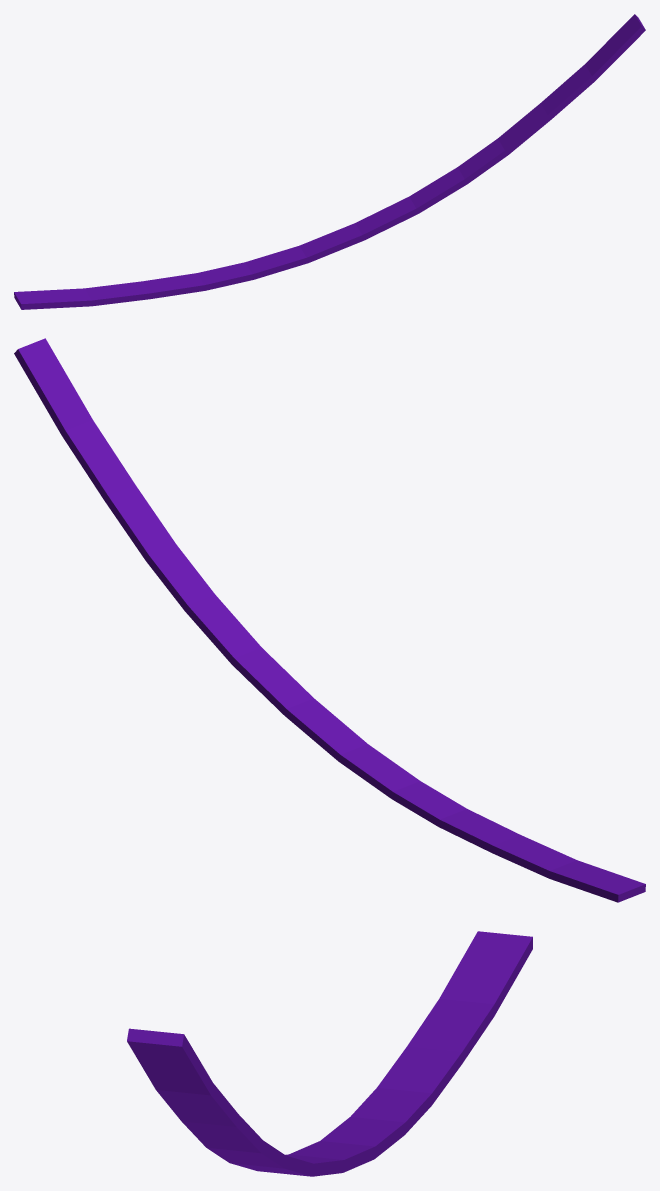
File: Tape_11.fbx
3 renders of one model, top to bottom at view 1: azimuth 30°, elevation 25°; view 2: azimuth 150°, elevation 25°; view 3: azimuth 270°, elevation 25°, orthographic. The views are drawn at different scales.
Visible parts, largest first — view 1: Tape_11; view 2: Tape_11; view 3: Tape_11.
Part boxes in pixels (box(x1,y1,x2,y2)): Tape_11: box(14, 14, 645, 309); Tape_11: box(14, 338, 645, 902); Tape_11: box(127, 931, 532, 1176).
Bounding box in the file's own units: 526 × 205 × 170.
